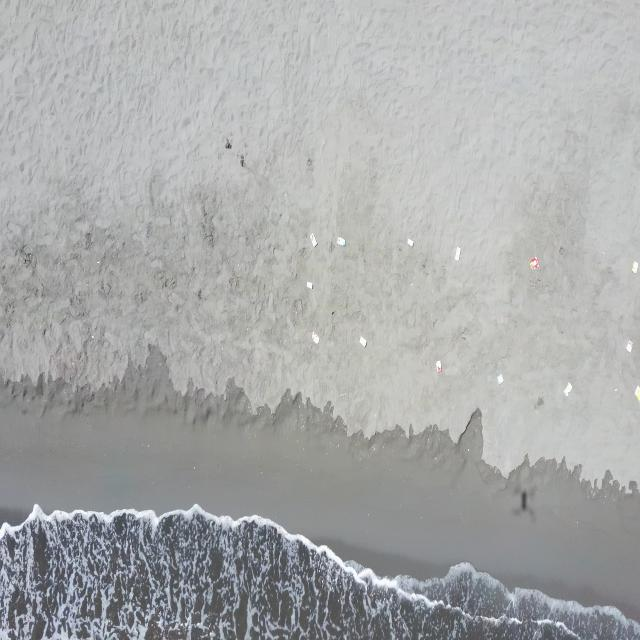Garbage: (528, 256, 539, 268), (563, 382, 571, 395), (453, 247, 460, 260), (310, 232, 316, 246), (335, 236, 343, 246), (312, 332, 319, 343), (359, 335, 366, 346), (496, 373, 503, 384), (626, 340, 632, 352), (224, 138, 230, 148), (632, 260, 637, 272), (435, 360, 440, 372), (635, 386, 639, 400), (407, 238, 412, 246), (240, 154, 243, 167), (307, 280, 312, 287)
